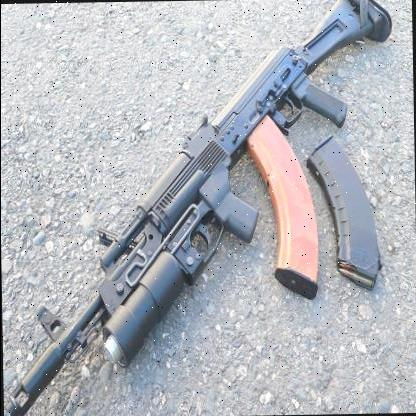rifle: (0, 0, 394, 415)
